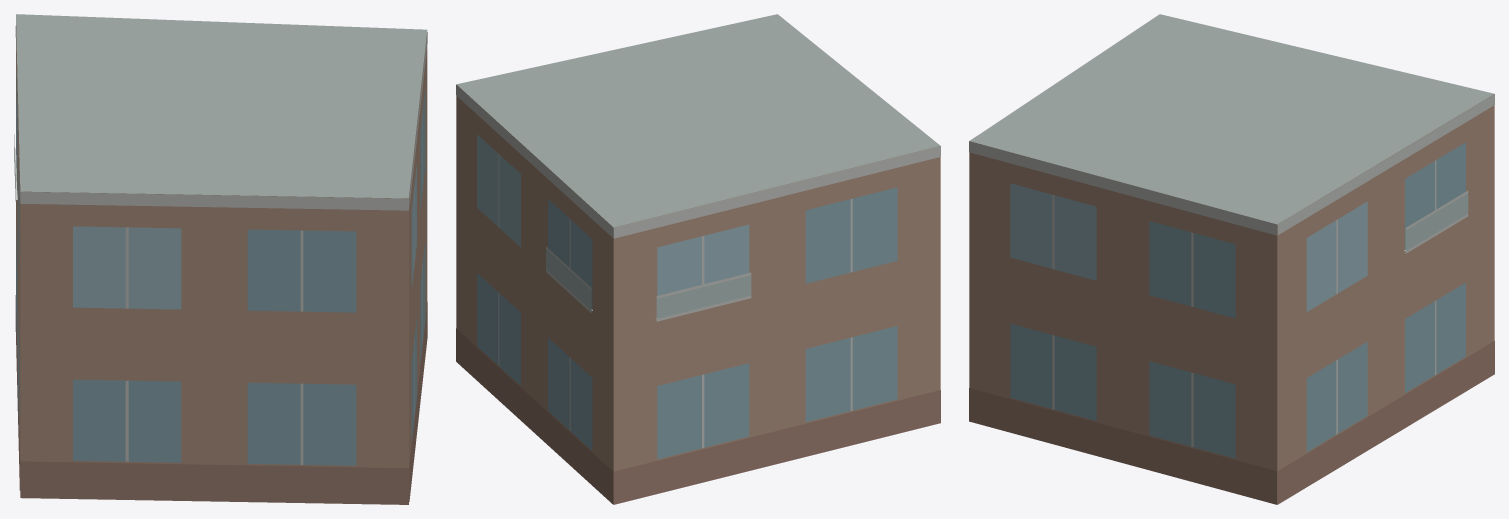
The model's file is survey-upis-32914400.glb.
3 renders of one model, left to right at view 1: azimuth 30°, elevation 25°; view 2: azimuth 150°, elevation 25°; view 3: azimuth 270°, elevation 25°, orthographic. The views are drawn at different scales.
Parts seen in each view (by area): view 1: survey-upis-32914400.tmp; view 2: survey-upis-32914400.tmp; view 3: survey-upis-32914400.tmp.
Boxes of the visible parts, <box> form: survey-upis-32914400.tmp: <box>14,14,427,504</box>; survey-upis-32914400.tmp: <box>456,14,940,504</box>; survey-upis-32914400.tmp: <box>969,14,1494,504</box>.
Size of the model in its own units: 9.83 by 6.1 by 10.37.
